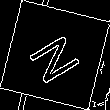N_NE: (23, 25, 87, 85)
